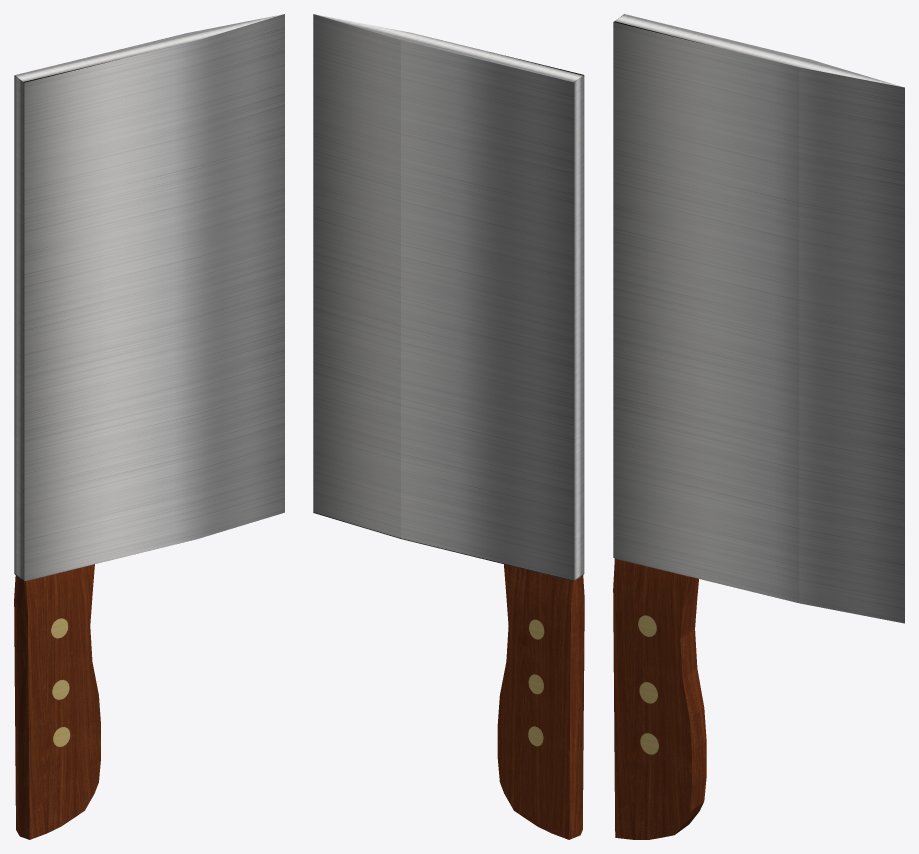
Rendered from knife.fbx.
3 renders of one model, left to right at view 1: azimuth 30°, elevation 25°; view 2: azimuth 150°, elevation 25°; view 3: azimuth 330°, elevation 25°, orthographic. The views are drawn at different scales.
Visible parts, largest first — view 1: pCube2; view 2: pCube2; view 3: pCube2.
Boxes of the visible parts, x1,y1,x2,y2 form: pCube2: (14,14,284,839); pCube2: (313,14,584,839); pCube2: (613,14,904,839).
Size of the model in its own units: 1.14 by 3.07 by 0.101.
Materials: 1 (1 with a texture image).
